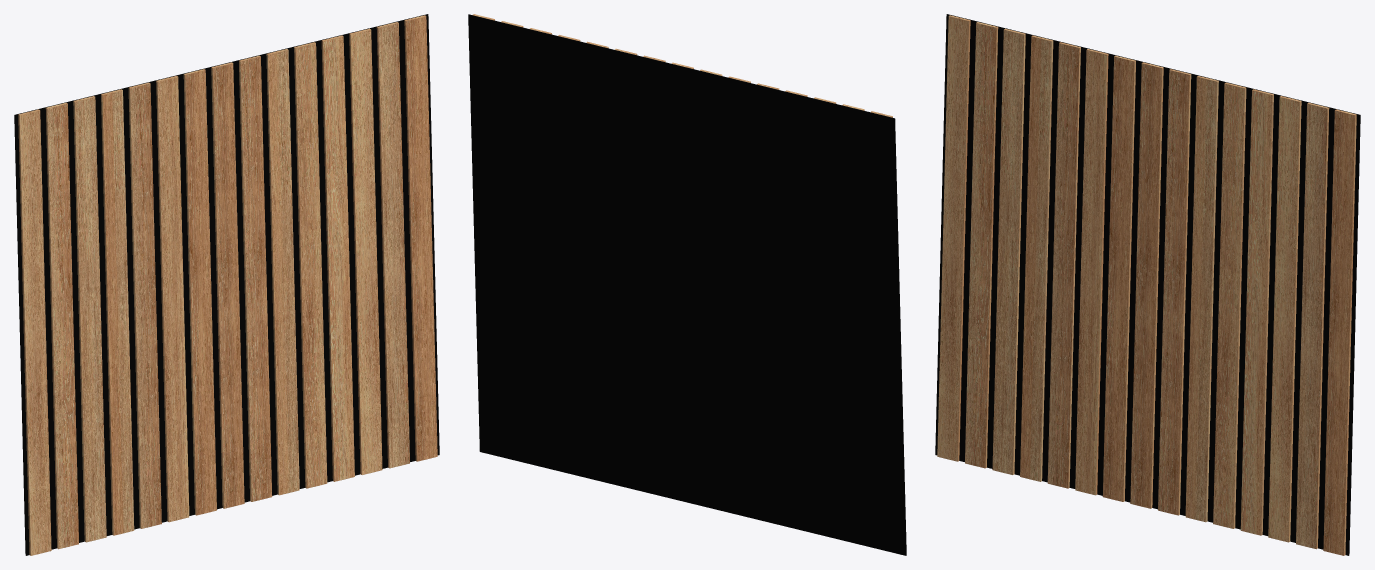
3 renders of one model, left to right at view 1: azimuth 30°, elevation 25°; view 2: azimuth 150°, elevation 25°; view 3: azimuth 330°, elevation 25°, orthographic. The views are drawn at different scales.
Parts seen in each view (by area): view 1: Acoustic wood_block; view 2: Acoustic wood_block; view 3: Acoustic wood_block.
Part boxes in pixels (x1=…): Acoustic wood_block: x1=14, y1=14, x2=439, y2=555; Acoustic wood_block: x1=468, y1=14, x2=906, y2=555; Acoustic wood_block: x1=935, y1=14, x2=1360, y2=555.
Bounding box in the file's own units: 2 × 2 × 0.1105.
Materials: 2 (1 with a texture image).
